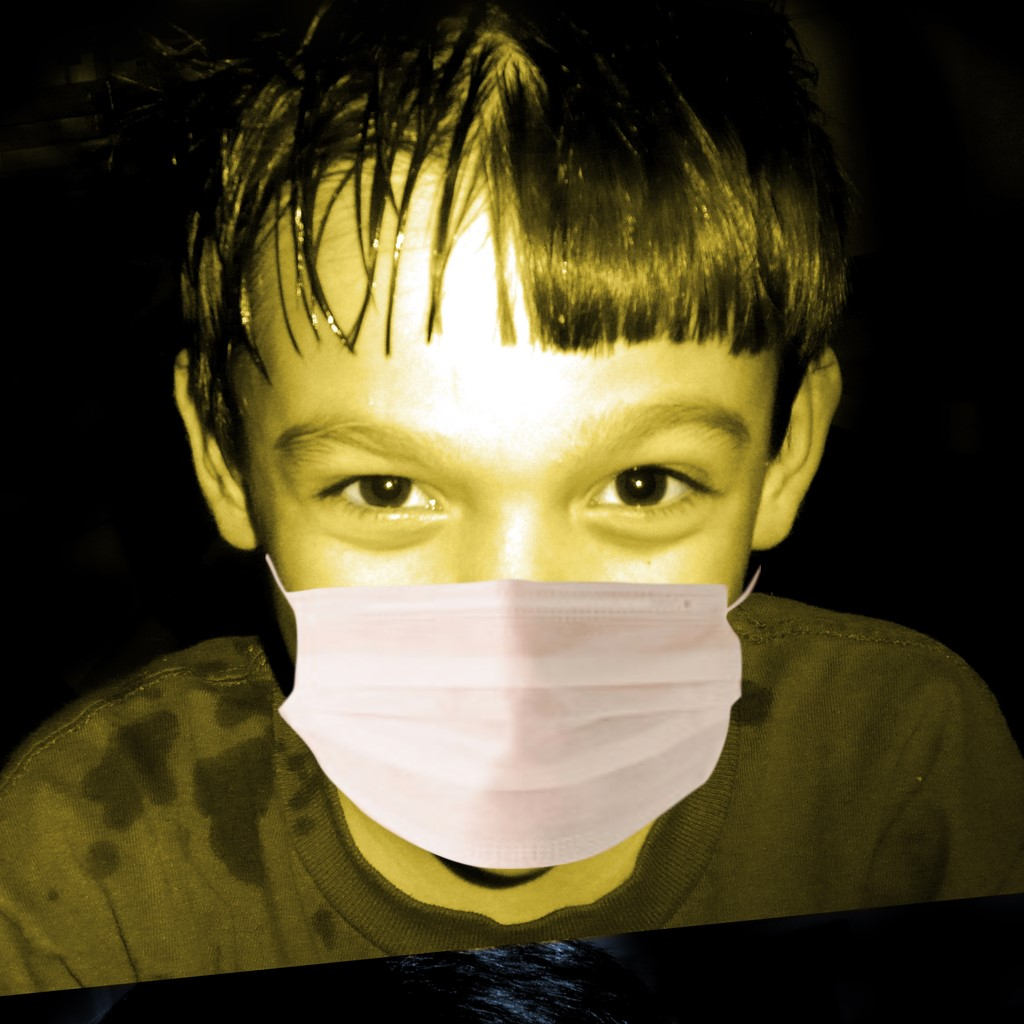con_mascara: (208, 52, 802, 849)
